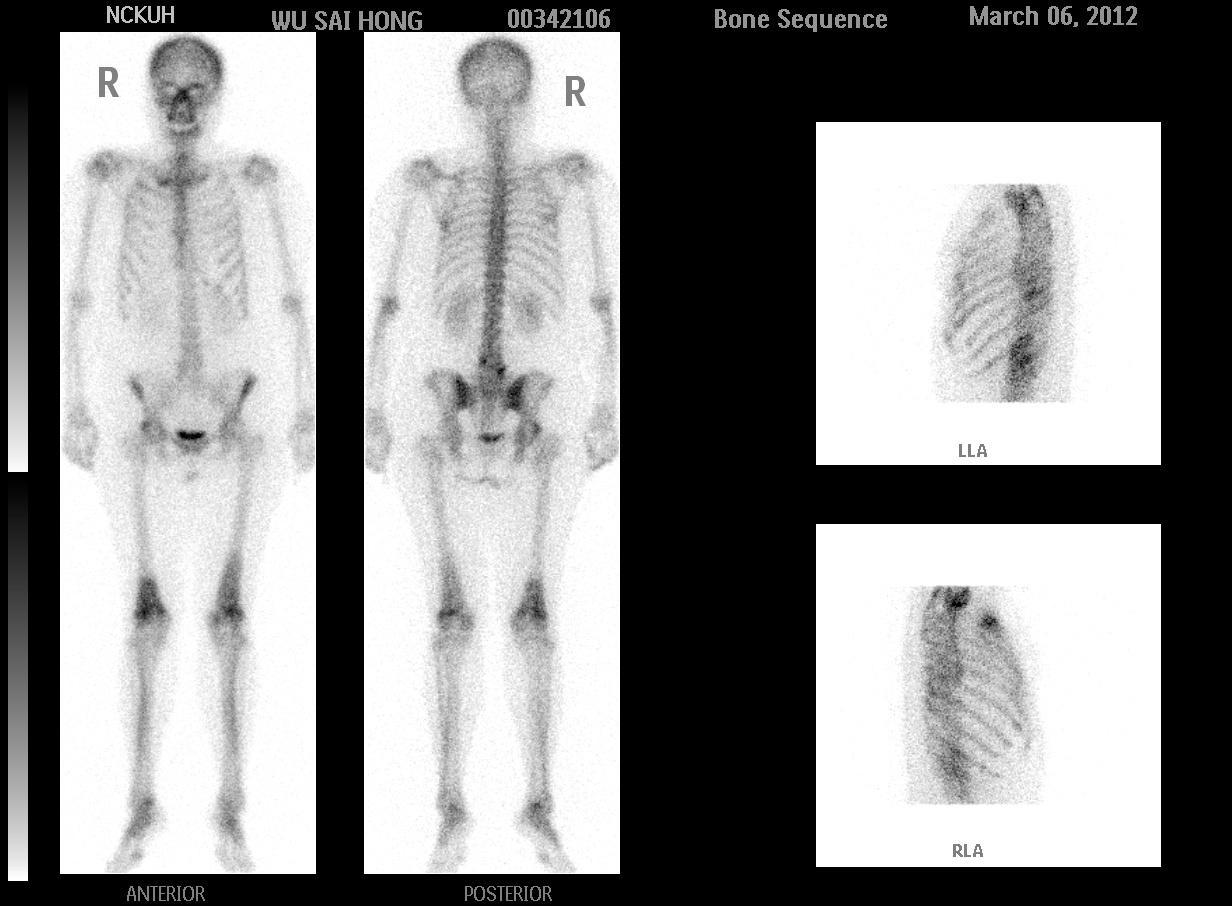person: (59, 32, 620, 875)
